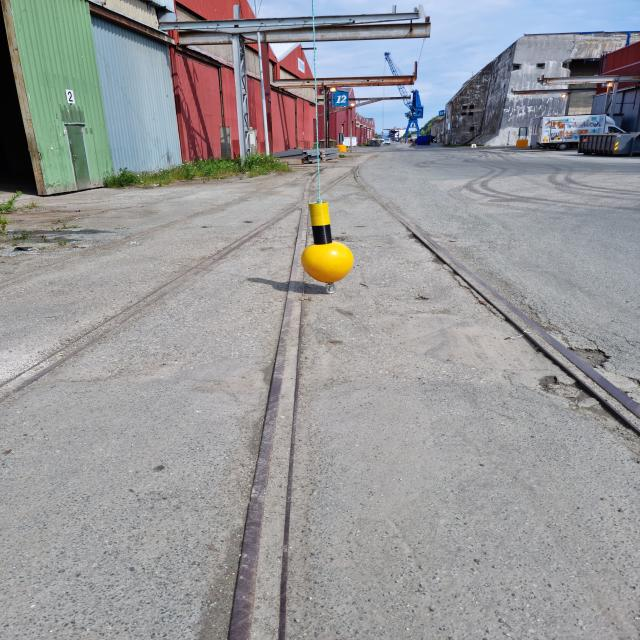west: (300, 201, 354, 284)
